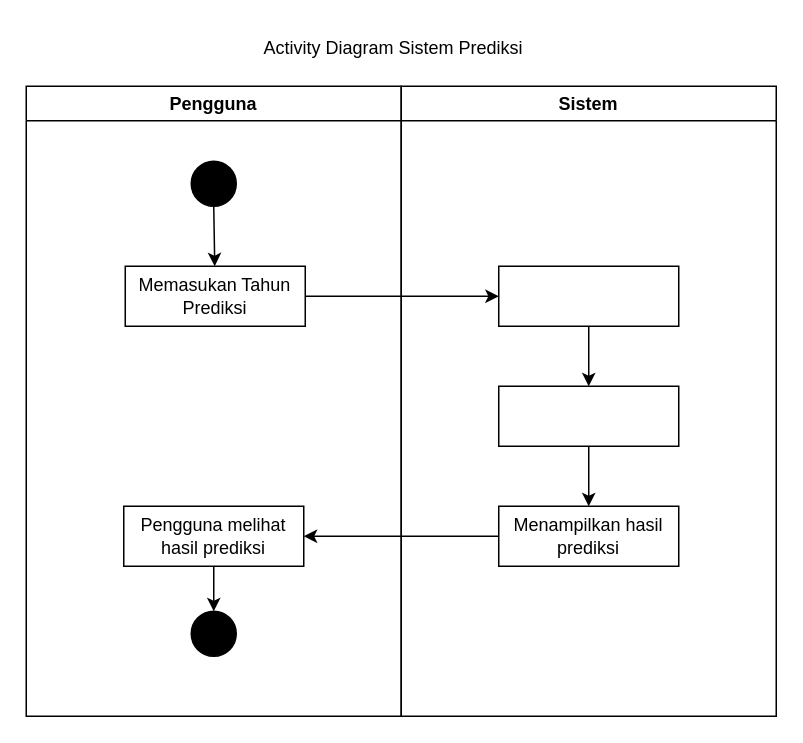
Image size: 803x743. Some labels were removed from this diagram. The centre of each missing label's shape, as x and y in pixels:
"Melakukan perhitungan prediksi" goes at [588,415].
"Menerima Inputan dari Pengguna" goes at [588,295].
